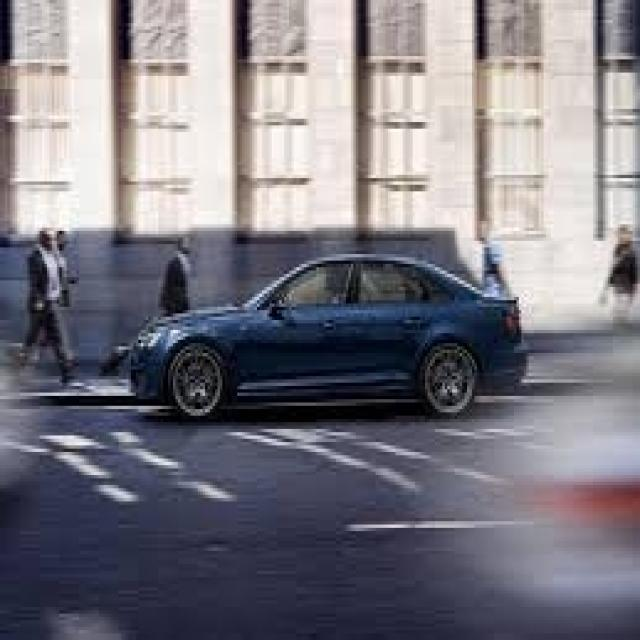blue: (120, 227, 593, 432)
